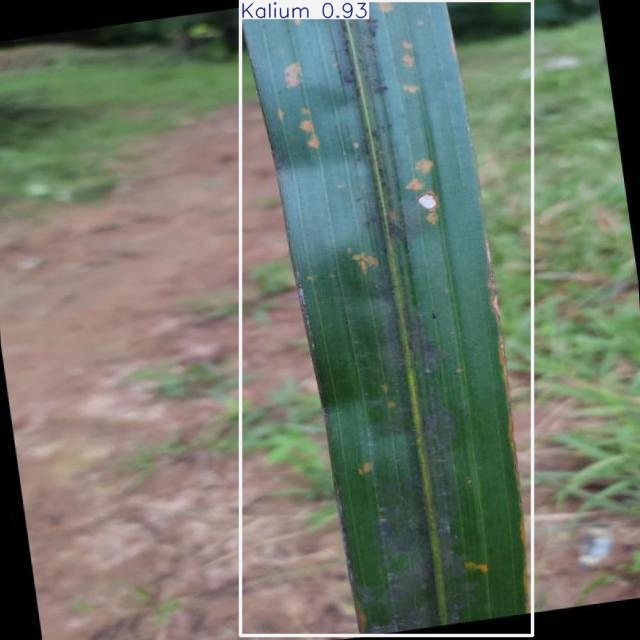Kalium: (240, 0, 533, 635)
